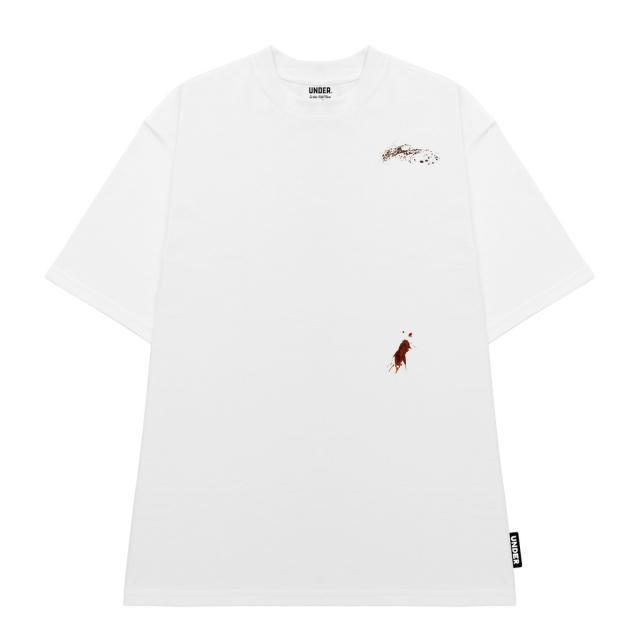stain: (375, 138, 442, 177), (383, 322, 423, 380)
